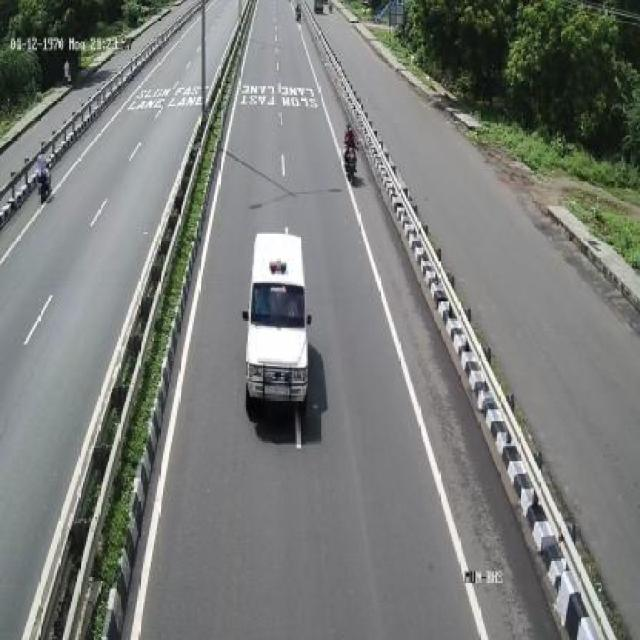car: (238, 224, 320, 422)
